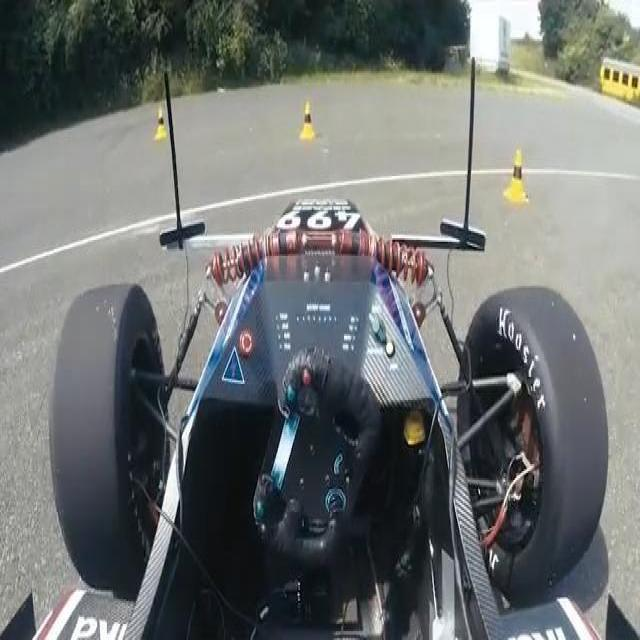yellow_cone: (505, 140, 529, 202), (293, 94, 323, 136), (151, 100, 172, 140)
